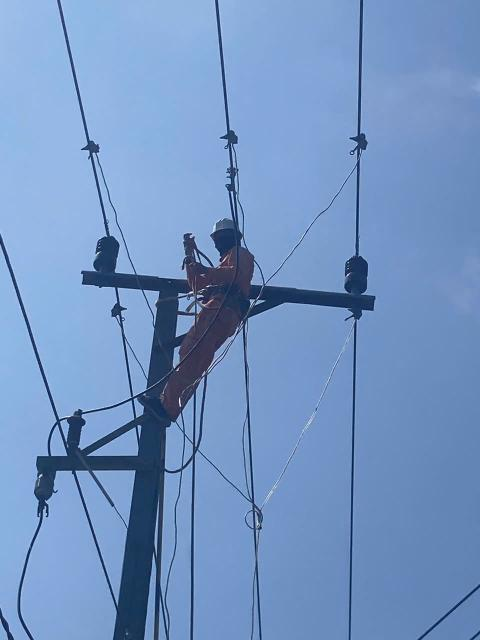gloves: (184, 255, 211, 277), (181, 228, 201, 253)
harness: (201, 278, 258, 320)
helmet: (206, 218, 246, 240)
shoes: (134, 391, 170, 422)
